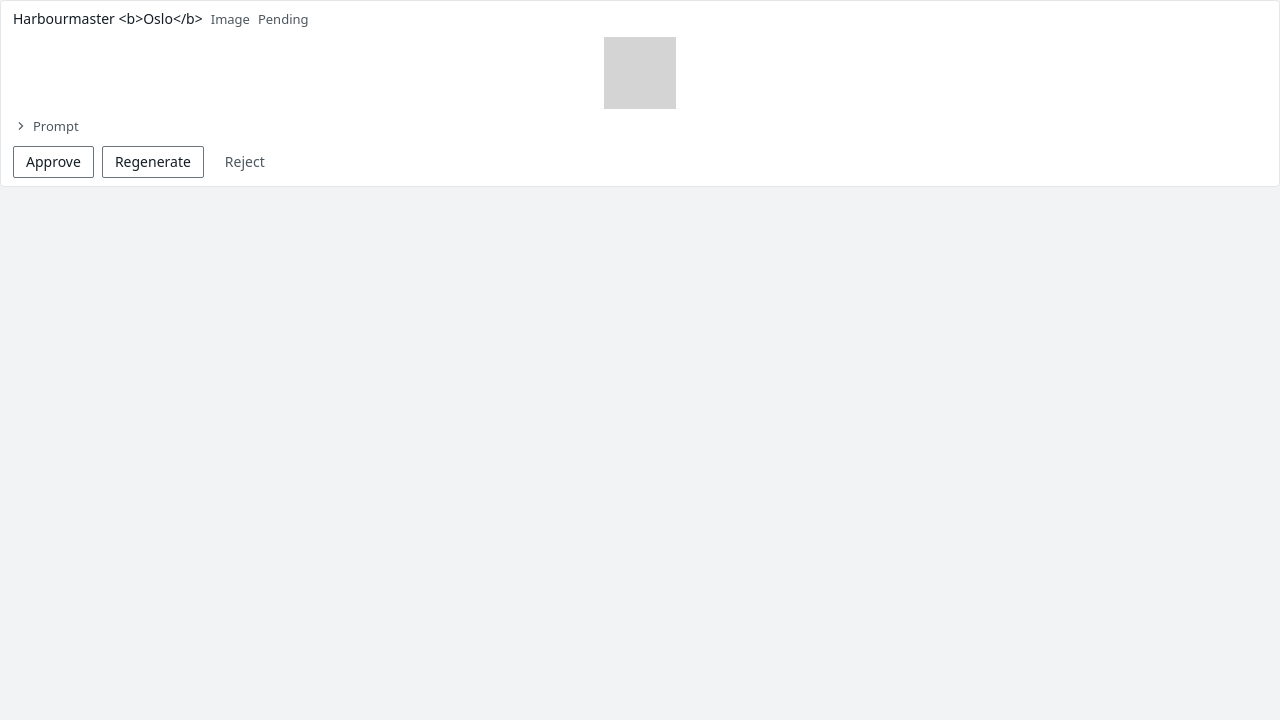
Test: ImageCard › shows the thumbnail as a button named by the image, at its natural ratio, which opens the lightbox
Click the button named "Harbourmaster <b>Oslo</b>" at (640, 73), box x1=1 y1=37 x2=1279 y2=109
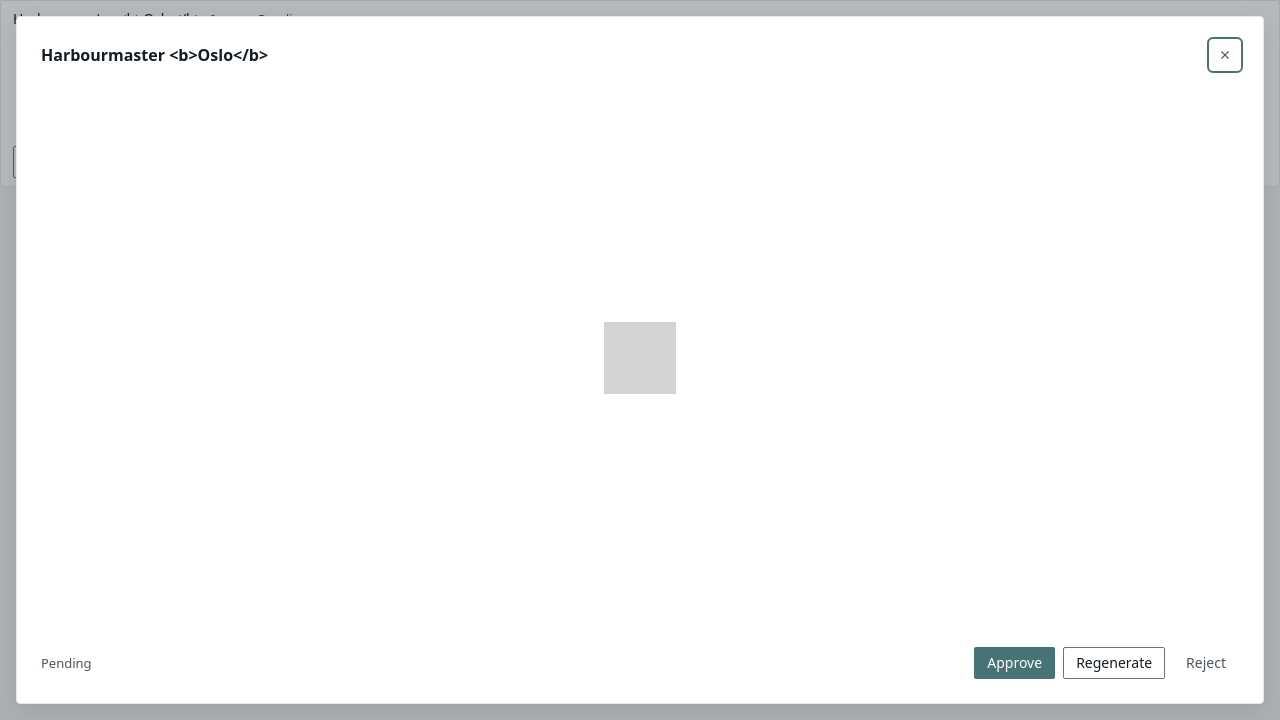
Check: the dialog "Harbourmaster <b>Oslo</b>" is shown
